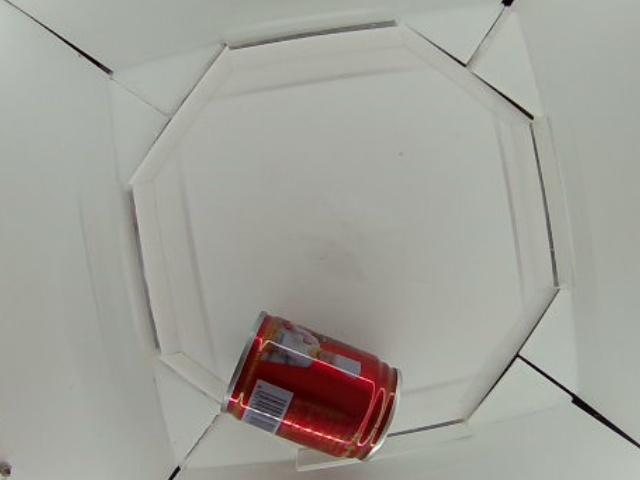Bottle: (219, 311, 407, 466)
